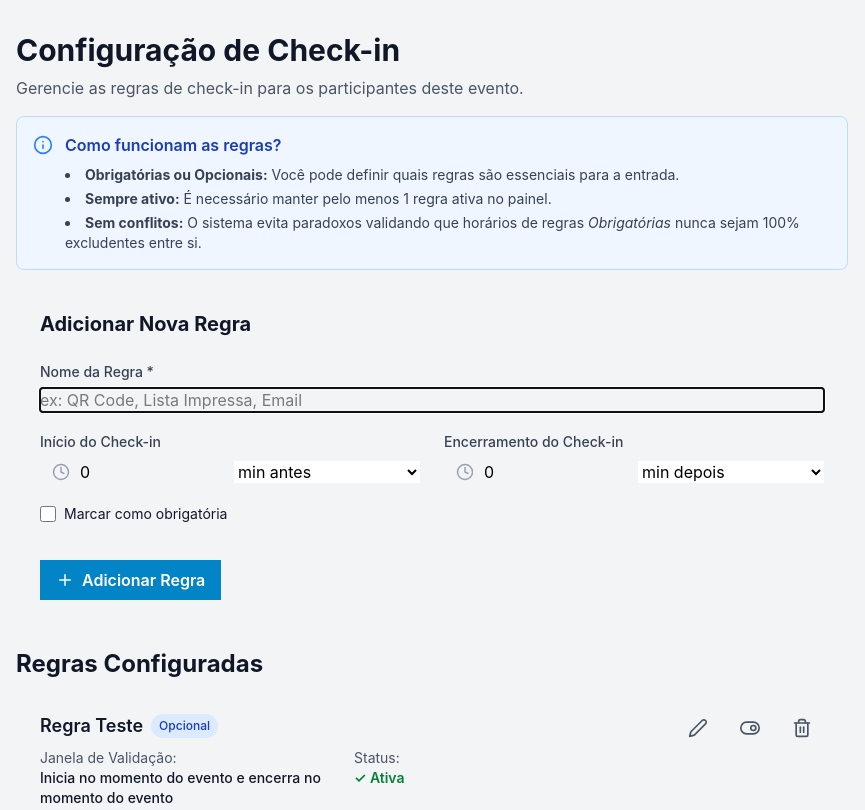
Scenario: CheckinRules Component › should toggle active/inactive status
Expected: the text "✓ Ativa" is shown, x1=354 y1=769 x2=404 y2=786
Click the button titled "Desativar".
click(750, 728)  # box x1=728 y1=712 x2=772 y2=744
(page scrolled)
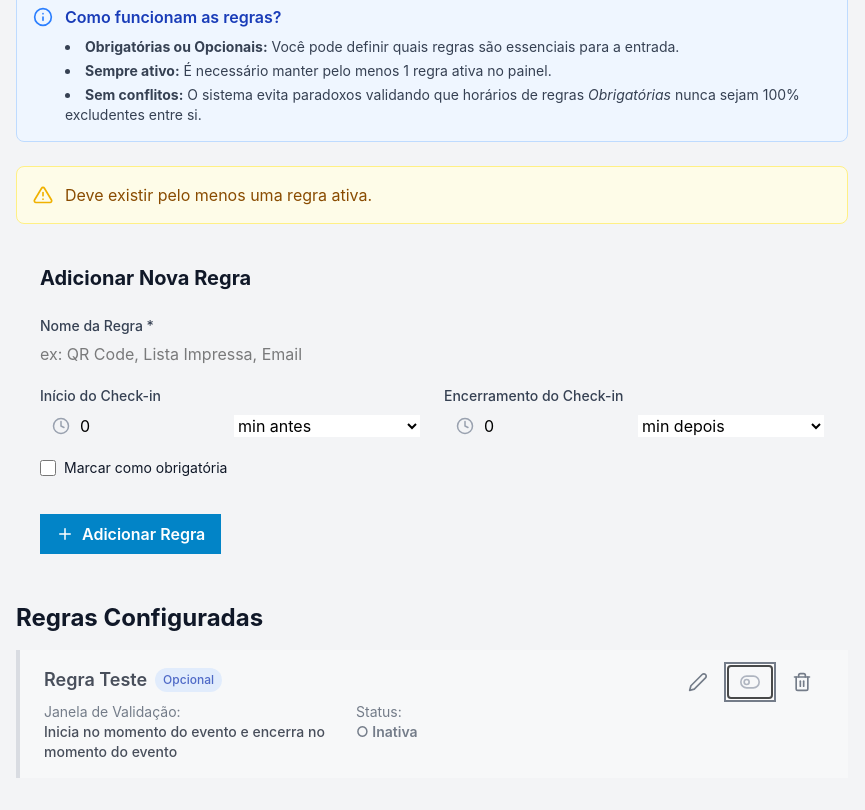
Expected: the text "○ Inativa" is shown, x1=356 y1=723 x2=418 y2=740
